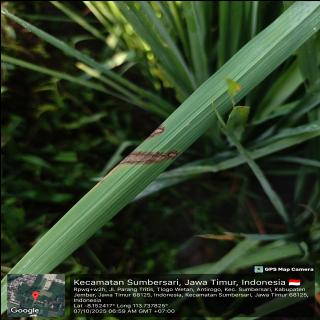Blast: (119, 152, 164, 166), (149, 126, 163, 137), (167, 149, 178, 157)
